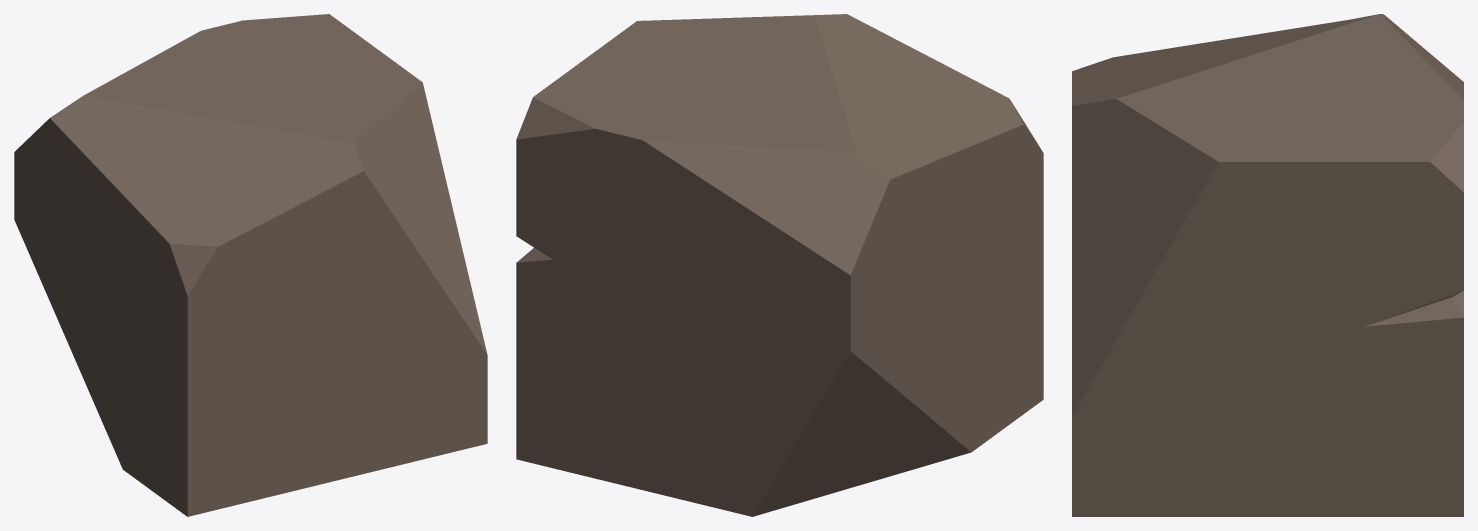
The model's file is stone big.glb.
The picture shows the model from 3 angles, left to right: view 1: azimuth 30°, elevation 25°; view 2: azimuth 150°, elevation 25°; view 3: azimuth 270°, elevation 25°; orthographic projection. The views are drawn at different scales.
Visible parts, largest first — view 1: Cube.025_rock_0; view 2: Cube.025_rock_0; view 3: Cube.025_rock_0.
Boxes of the visible parts, x1=… form: Cube.025_rock_0: x1=14, y1=14, x2=487, y2=516; Cube.025_rock_0: x1=516, y1=14, x2=1043, y2=516; Cube.025_rock_0: x1=1072, y1=14, x2=1463, y2=516.
Bounding box in the file's own units: 1.11 × 1.11 × 1.11.
